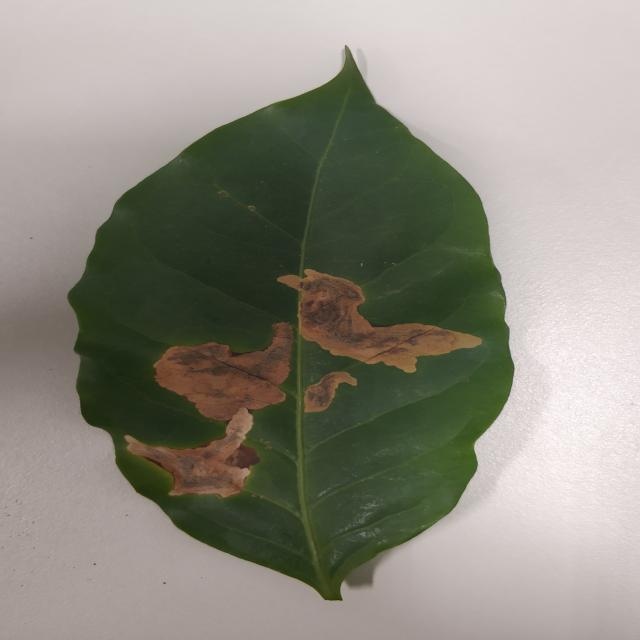Plaga-Minador: (65, 48, 516, 604)
